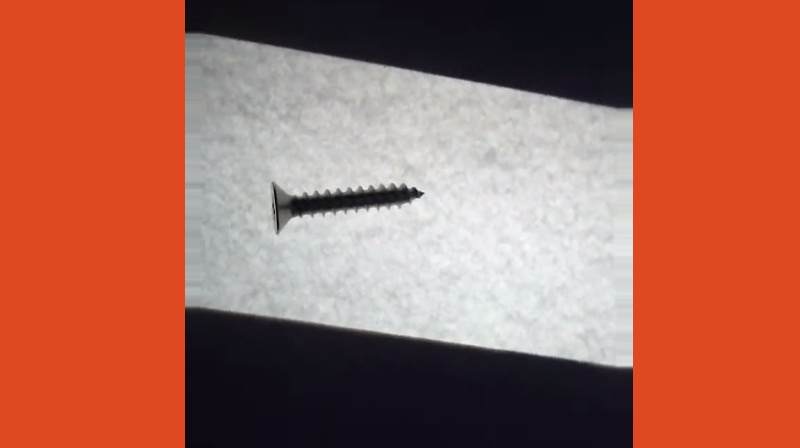S001: (262, 173, 428, 239)
